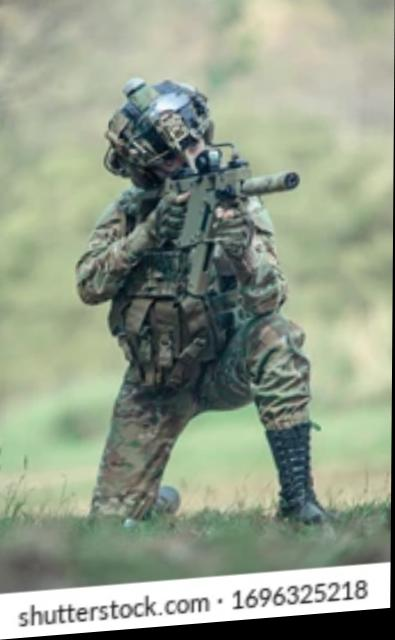other: (69, 75, 310, 545)
